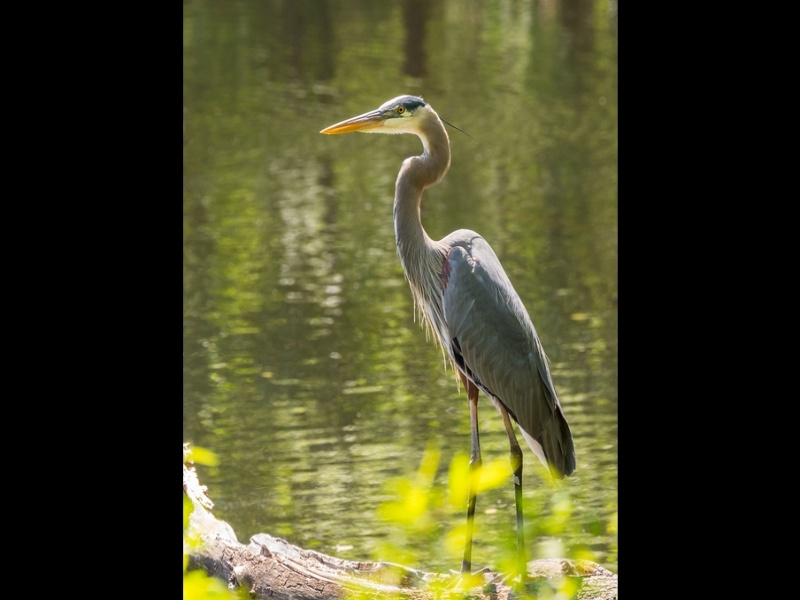heron: (319, 93, 580, 547)
